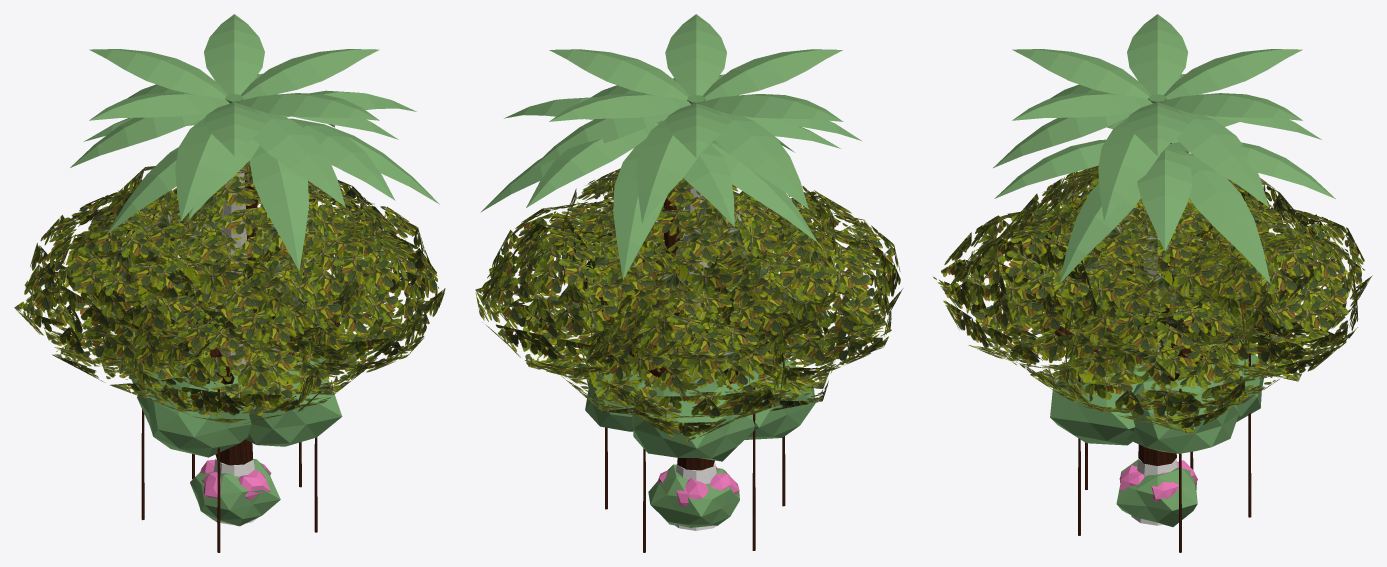
The model's file is r2_flora_kit.glb.
The picture shows the model from 3 angles, left to right: view 1: azimuth 30°, elevation 25°; view 2: azimuth 150°, elevation 25°; view 3: azimuth 270°, elevation 25°; orthographic projection.
Visible parts, largest first — view 1: r2_flora_banyan, r2_flora_royal_palm, r2_flora_terminalia, r2_flora_coconut_palm, r2_flora_frangipani, r2_flora_bougainvillea; view 2: r2_flora_banyan, r2_flora_royal_palm, r2_flora_coconut_palm, r2_flora_terminalia, r2_flora_frangipani, r2_flora_bougainvillea; view 3: r2_flora_banyan, r2_flora_royal_palm, r2_flora_coconut_palm, r2_flora_terminalia, r2_flora_frangipani, r2_flora_bougainvillea.
Part boxes in pixels (left/top/right/bottom): r2_flora_banyan: left=14, top=161, right=445, bottom=552; r2_flora_royal_palm: left=70, top=14, right=398, bottom=371; r2_flora_terminalia: left=52, top=188, right=405, bottom=413; r2_flora_coconut_palm: left=83, top=90, right=439, bottom=270; r2_flora_frangipani: left=126, top=338, right=342, bottom=457; r2_flora_bougainvillea: left=190, top=459, right=280, bottom=526; r2_flora_banyan: left=475, top=168, right=903, bottom=552; r2_flora_royal_palm: left=530, top=14, right=862, bottom=354; r2_flora_coconut_palm: left=480, top=78, right=840, bottom=352; r2_flora_terminalia: left=537, top=182, right=840, bottom=418; r2_flora_frangipani: left=585, top=337, right=815, bottom=461; r2_flora_bougainvillea: left=648, top=464, right=739, bottom=527; r2_flora_banyan: left=933, top=151, right=1372, bottom=552; r2_flora_royal_palm: left=993, top=14, right=1321, bottom=371; r2_flora_coconut_palm: left=994, top=115, right=1335, bottom=359; r2_flora_terminalia: left=986, top=198, right=1342, bottom=412; r2_flora_frangipani: left=1050, top=330, right=1265, bottom=453; r2_flora_bougainvillea: left=1116, top=459, right=1197, bottom=526.
Bounding box in the file's own units: 9.8 × 10.55 × 9.53.
7 materials, 4 textured.
